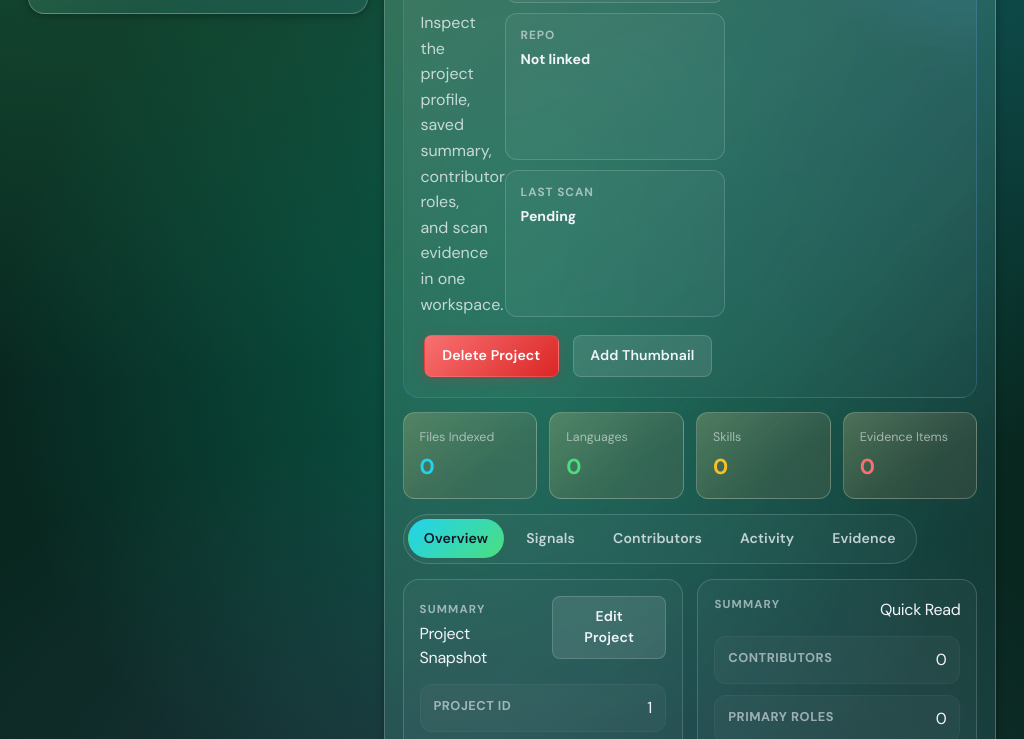
ScannedProjectsPage › delete confirmation uses project name
(page scrolled)
What coordinates should you click on to do the following:
click the button "Delete Project"
I would click on:
 (491, 356)
Its box is [424,335,559,377].
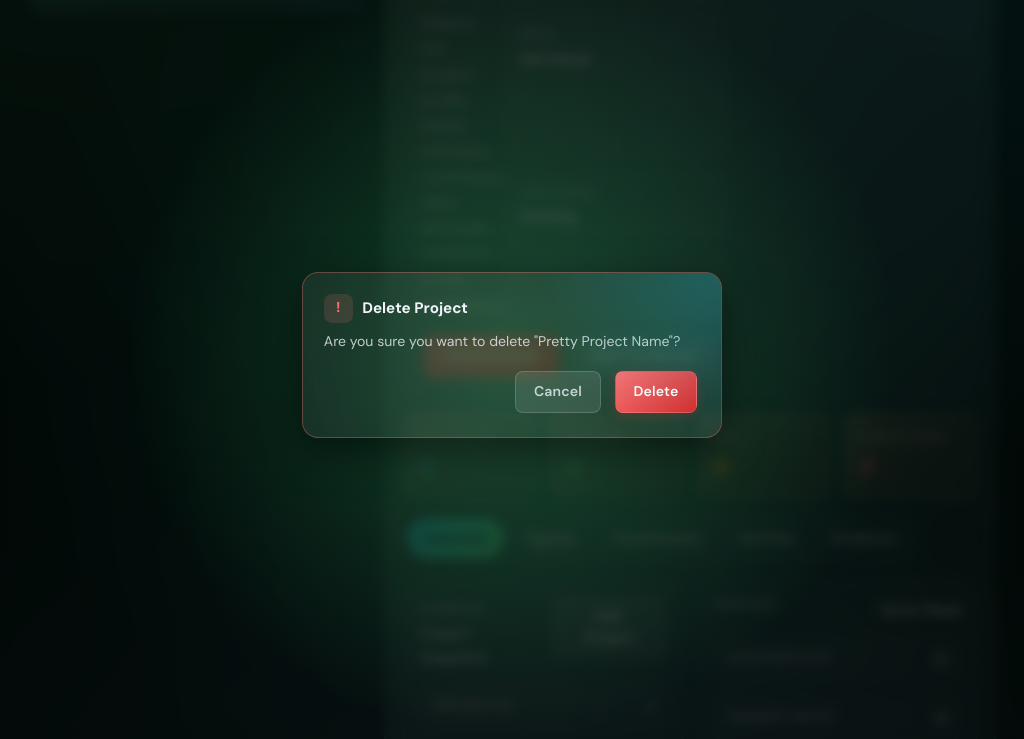
Expected: the text "Are you sure you want to delete \"Pretty Project Name\"?" is shown, [324,330,700,352]
